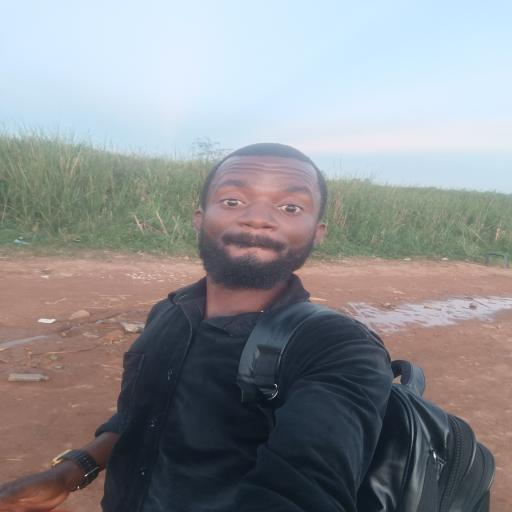MATTHIEU: (191, 131, 335, 286)
